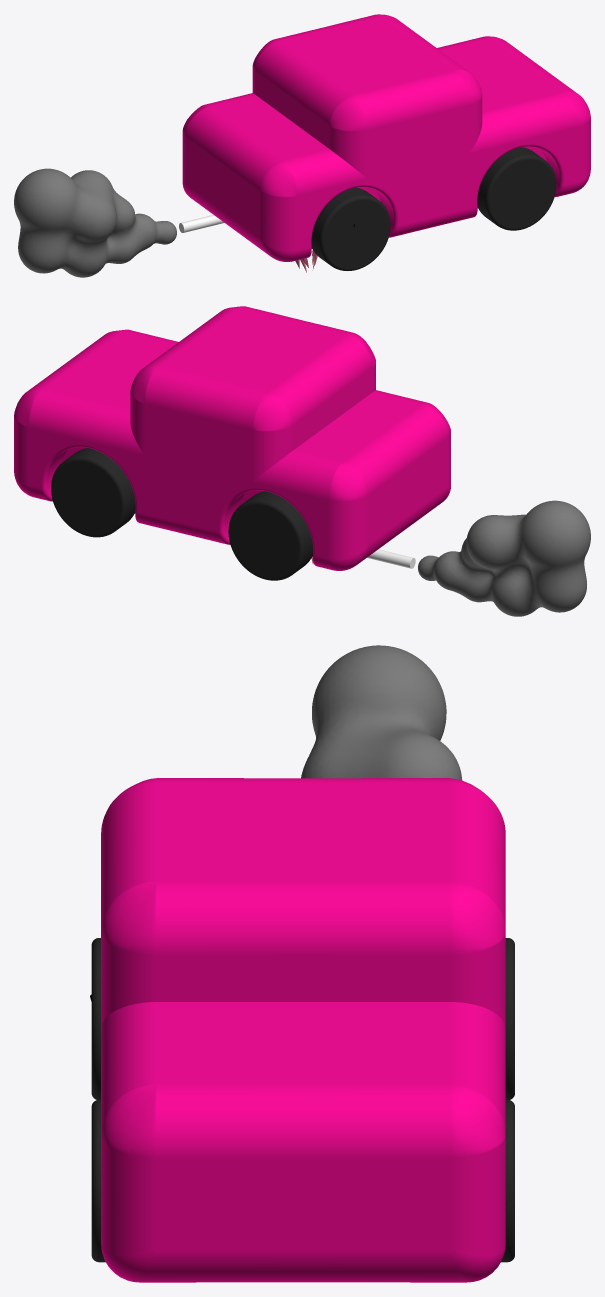
The model's file is car.glb.
3 renders of one model, top to bottom at view 1: azimuth 30°, elevation 25°; view 2: azimuth 150°, elevation 25°; view 3: azimuth 270°, elevation 25°, orthographic. The views are drawn at different scales.
Visible parts, largest first — view 1: car_body, smoke, wheel2, wheel4, exhaust; view 2: car_body, smoke, wheel1, wheel3, exhaust; view 3: car_body, smoke, wheel2, wheel1, wheel3, wheel4.
Boxes of the visible parts, bbox=[...] form: car_body: bbox=[182, 14, 590, 261]; smoke: bbox=[14, 168, 176, 277]; wheel2: bbox=[477, 147, 556, 230]; wheel4: bbox=[311, 187, 390, 270]; exhaust: bbox=[179, 215, 224, 232]; car_body: bbox=[14, 306, 450, 570]; smoke: bbox=[418, 500, 590, 616]; wheel1: bbox=[51, 448, 135, 537]; wheel3: bbox=[228, 491, 312, 580]; exhaust: bbox=[367, 549, 415, 568]; car_body: bbox=[101, 778, 505, 1282]; smoke: bbox=[301, 645, 462, 780]; wheel2: bbox=[91, 1099, 105, 1262]; wheel1: bbox=[501, 1099, 514, 1262]; wheel3: bbox=[505, 938, 514, 1099]; wheel4: bbox=[91, 938, 100, 1099].
Size of the model in its own units: 15.96 by 5.77 by 5.73.
